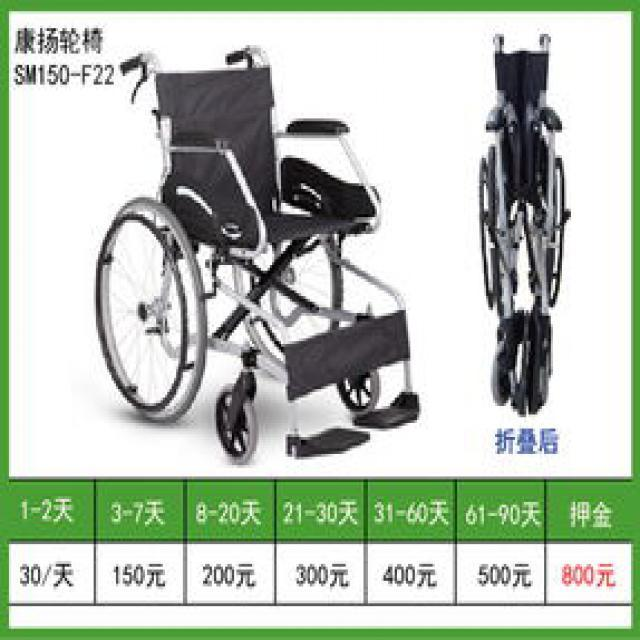wheelchair: (91, 37, 422, 462)
